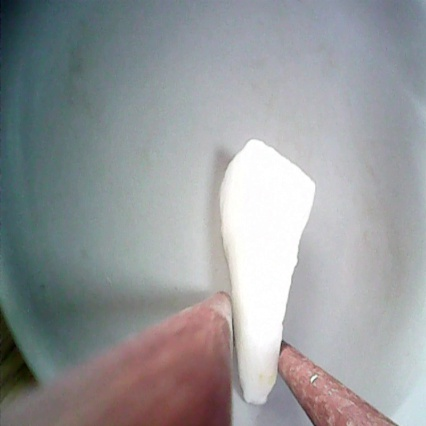white_chinese-yam: (211, 131, 319, 406)
